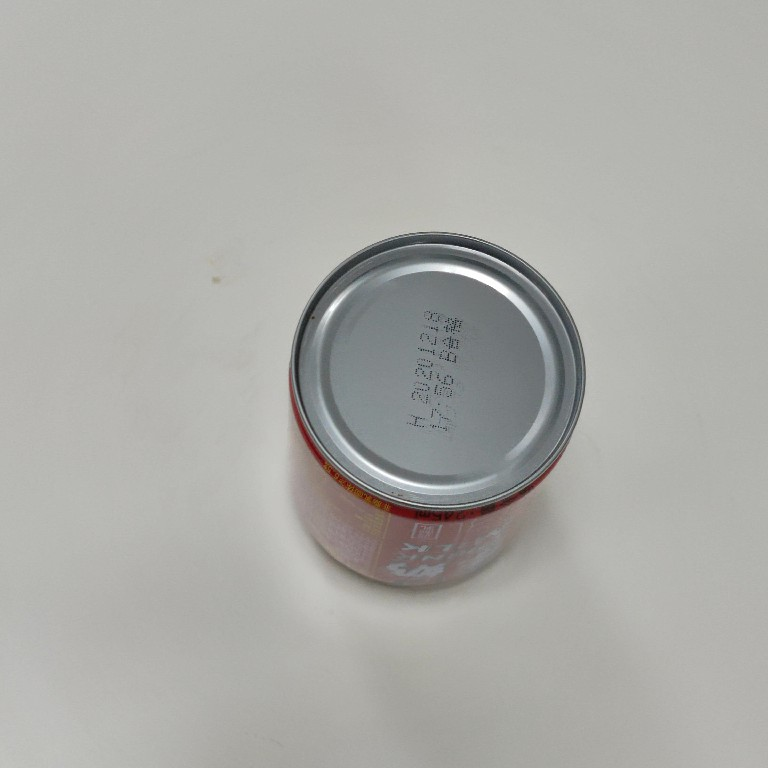can: (285, 228, 591, 596)
